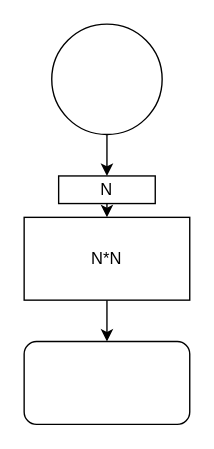
This 214x449 diagram has some shape labels left out. Here are the shapes that lost their labels. From the top down, the centre of each, then its label:
point (106, 79): start
point (106, 382): END
